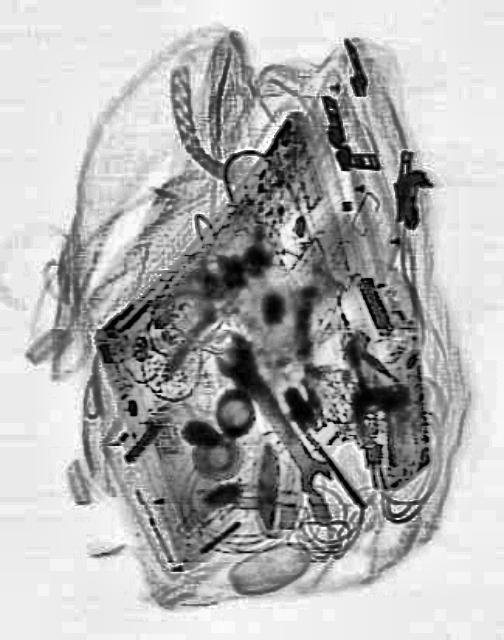Wrench: (208, 330, 340, 502)
